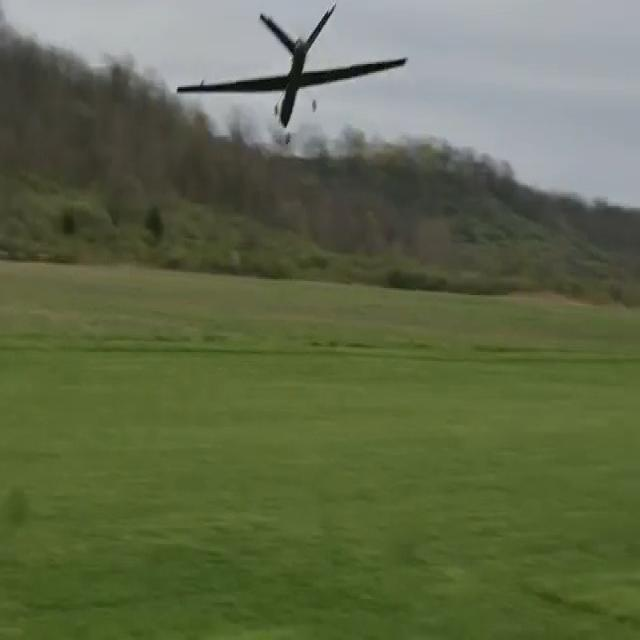iha: (177, 0, 406, 62)
